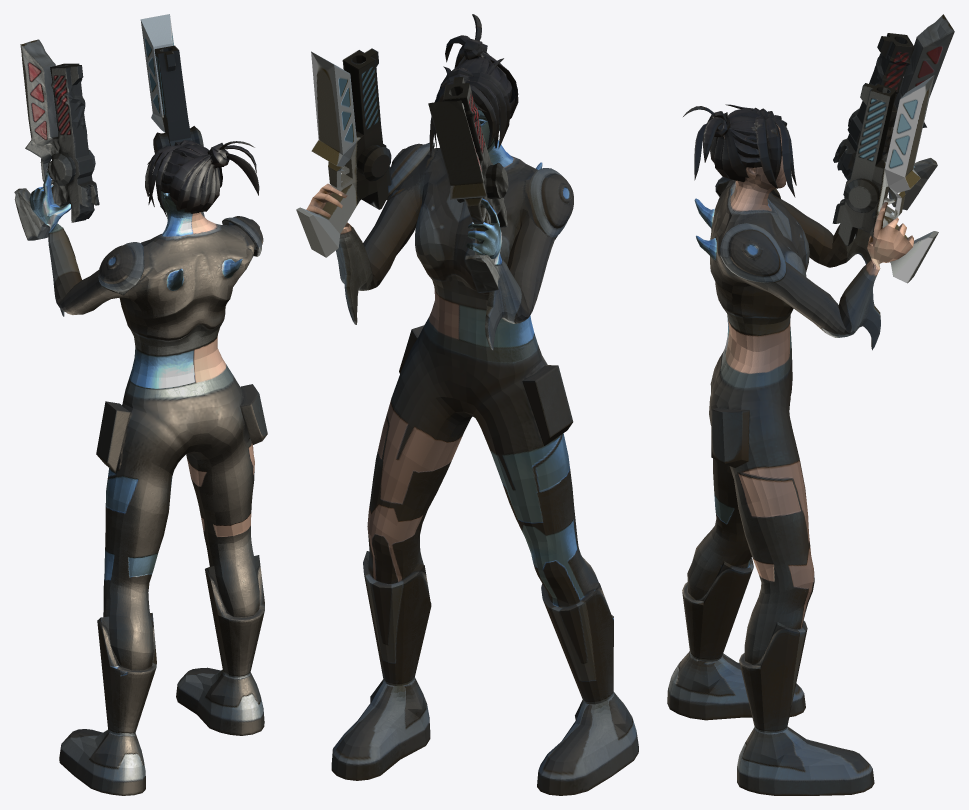
3 views of the same model, side by side, from view 1: azimuth 30°, elevation 25°; view 2: azimuth 150°, elevation 25°; view 3: azimuth 270°, elevation 25° (orthographic). The views are drawn at different scales.
Visible parts, largest first — view 1: Dex_LOW_Plane.001; view 2: Dex_LOW_Plane.001; view 3: Dex_LOW_Plane.001.
Part boxes in pixels (left/top/right/bottom): Dex_LOW_Plane.001: left=14, top=14, right=267, bottom=795; Dex_LOW_Plane.001: left=296, top=14, right=638, bottom=795; Dex_LOW_Plane.001: left=667, top=14, right=954, bottom=795.
Size of the model in its own units: 1.63 by 5.08 by 1.88.
